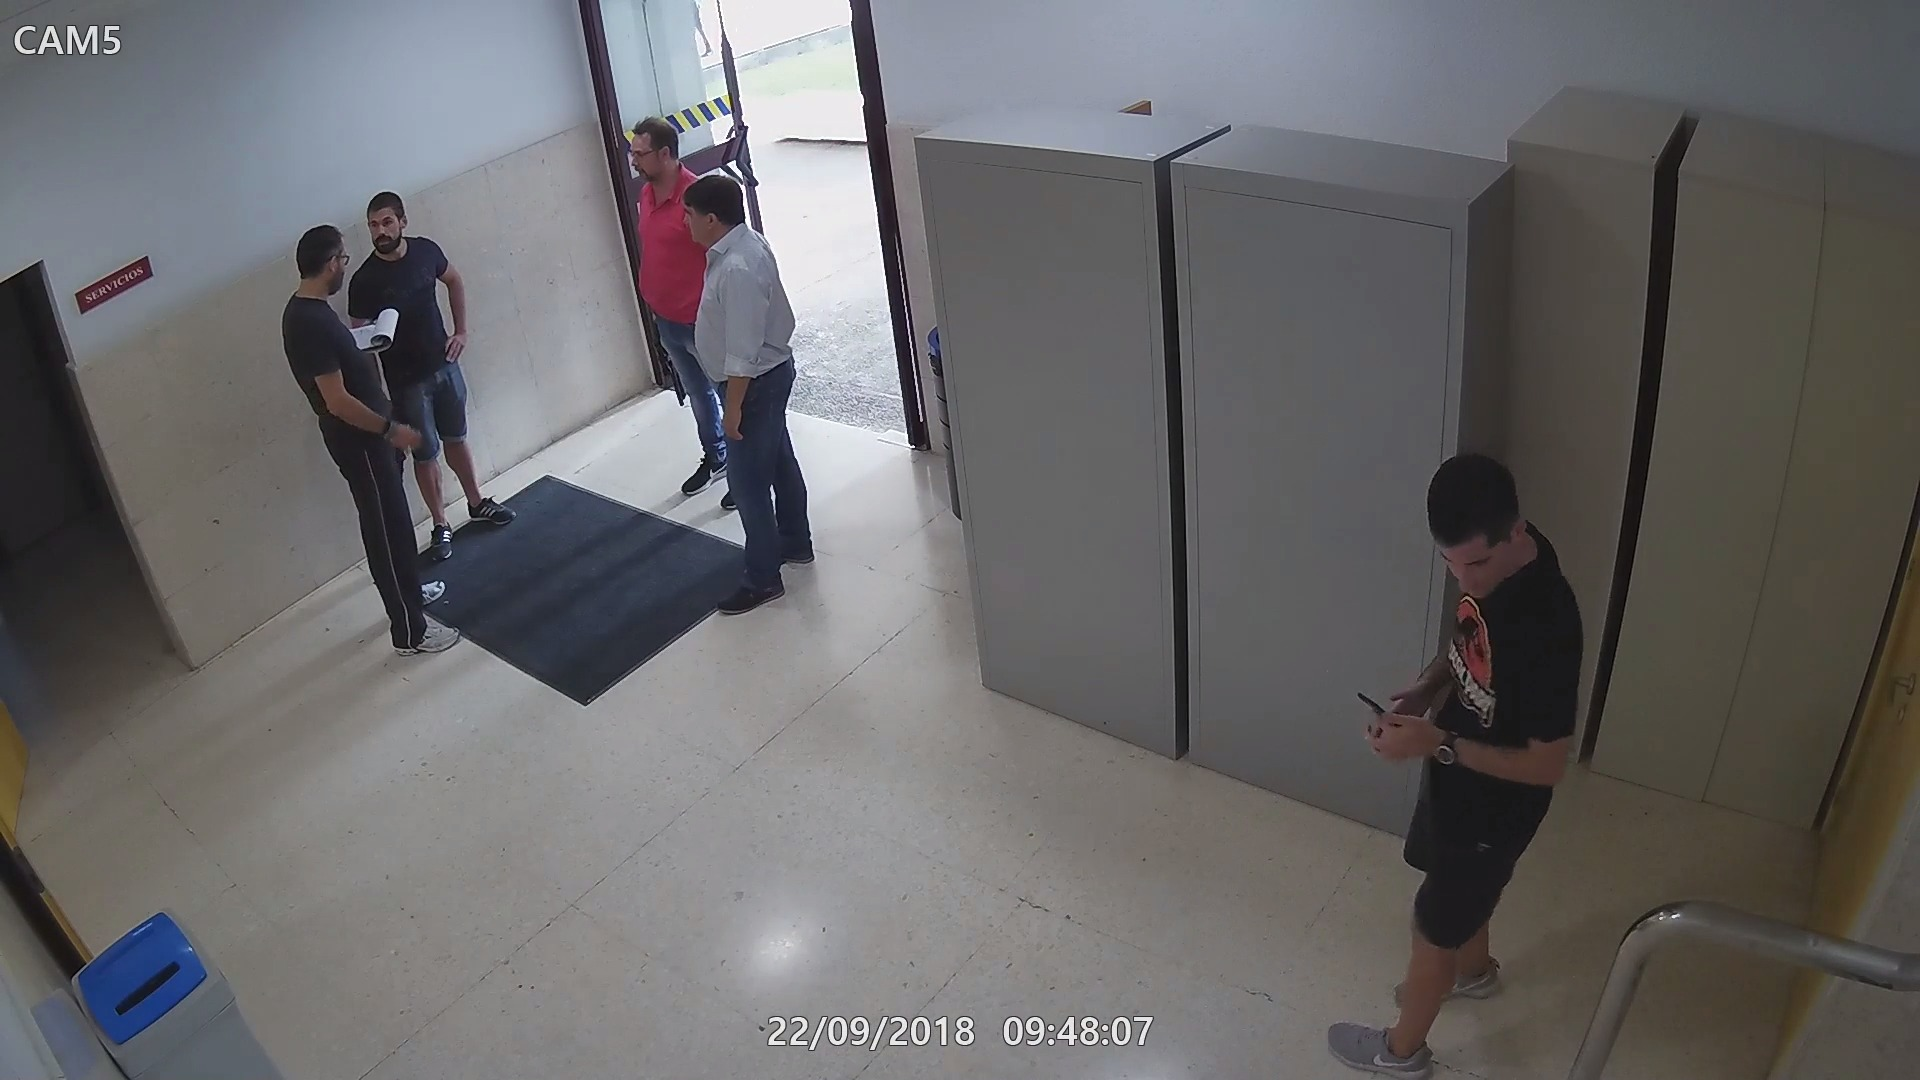rifle: (645, 301, 688, 409), (382, 389, 407, 475)
